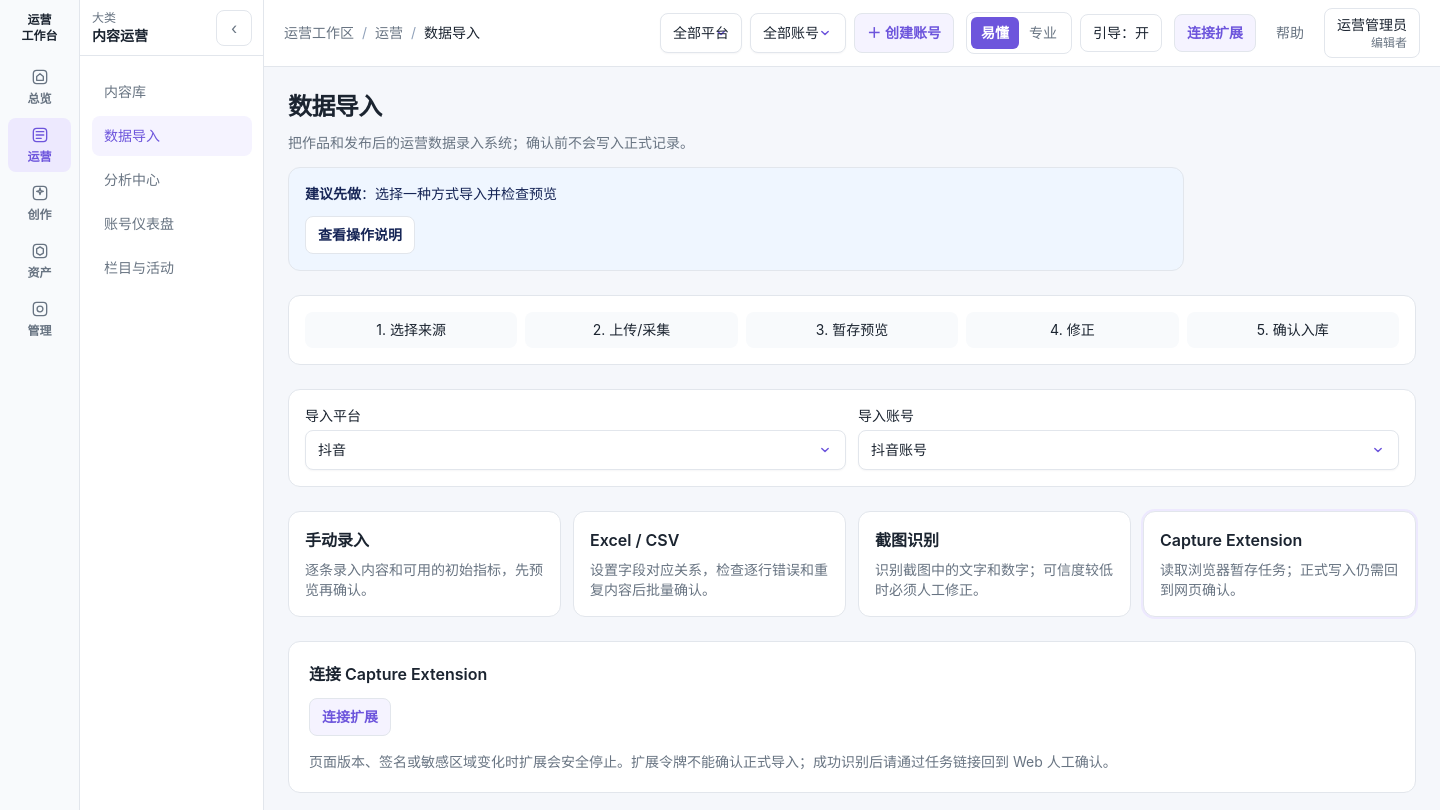
opens the shared pairing dialog from the extension import entry
Expected: the element "连接 Capture Extension" is shown, [288, 641, 1416, 793]
Click the button "连接扩展" below "连接 Capture Extension".
click(350, 717)  # box [309, 698, 391, 736]
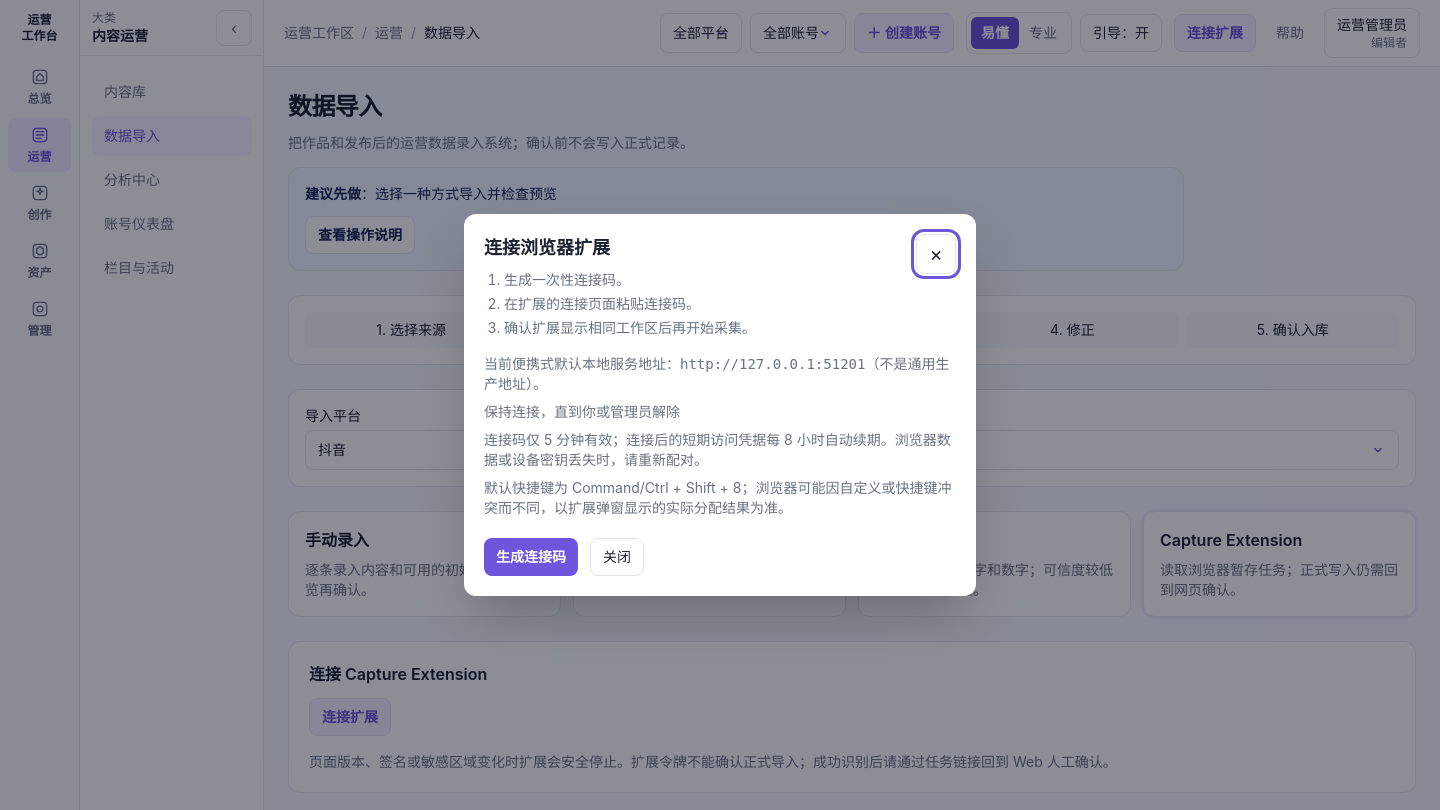
Expected: the dialog "连接浏览器扩展" is shown, [464, 214, 976, 596]
